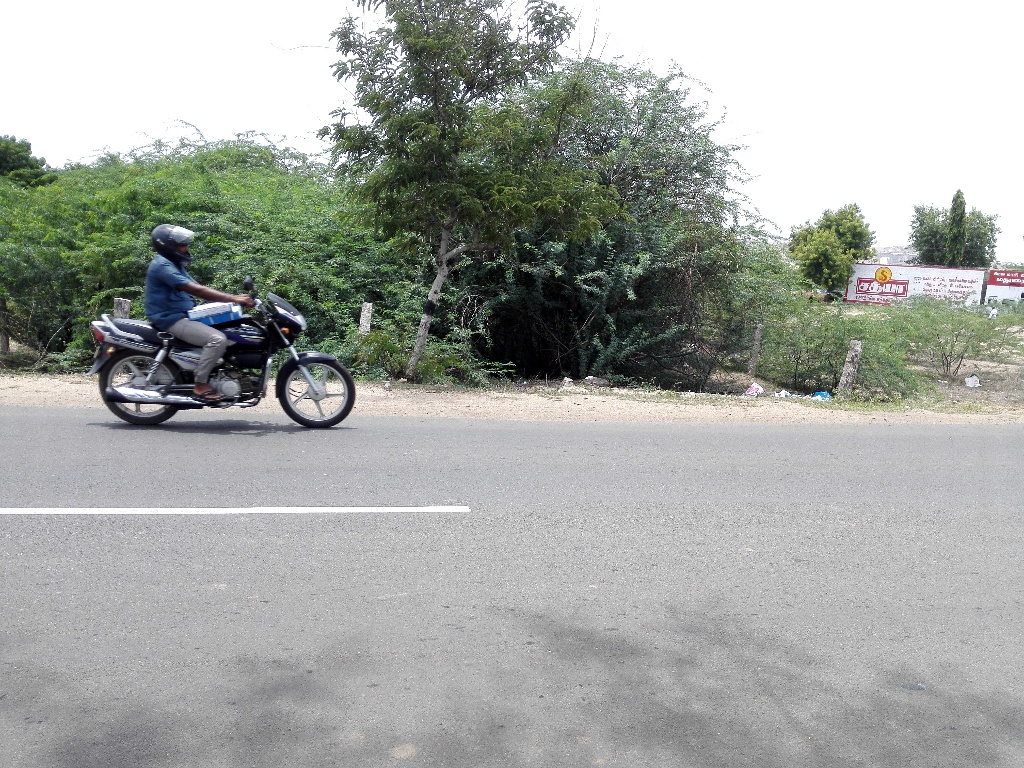biker: (71, 193, 367, 447)
helmet: (142, 215, 207, 275)
